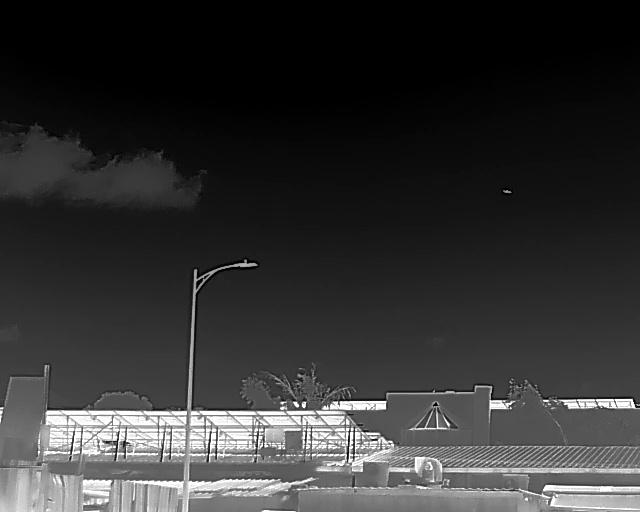fpv-drone: (502, 189, 513, 195)
